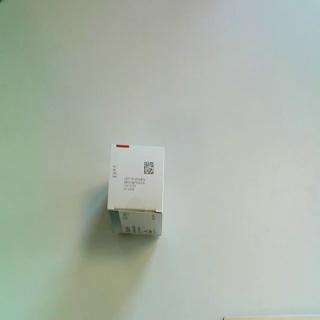morfin10mg: (106, 143, 166, 239)
